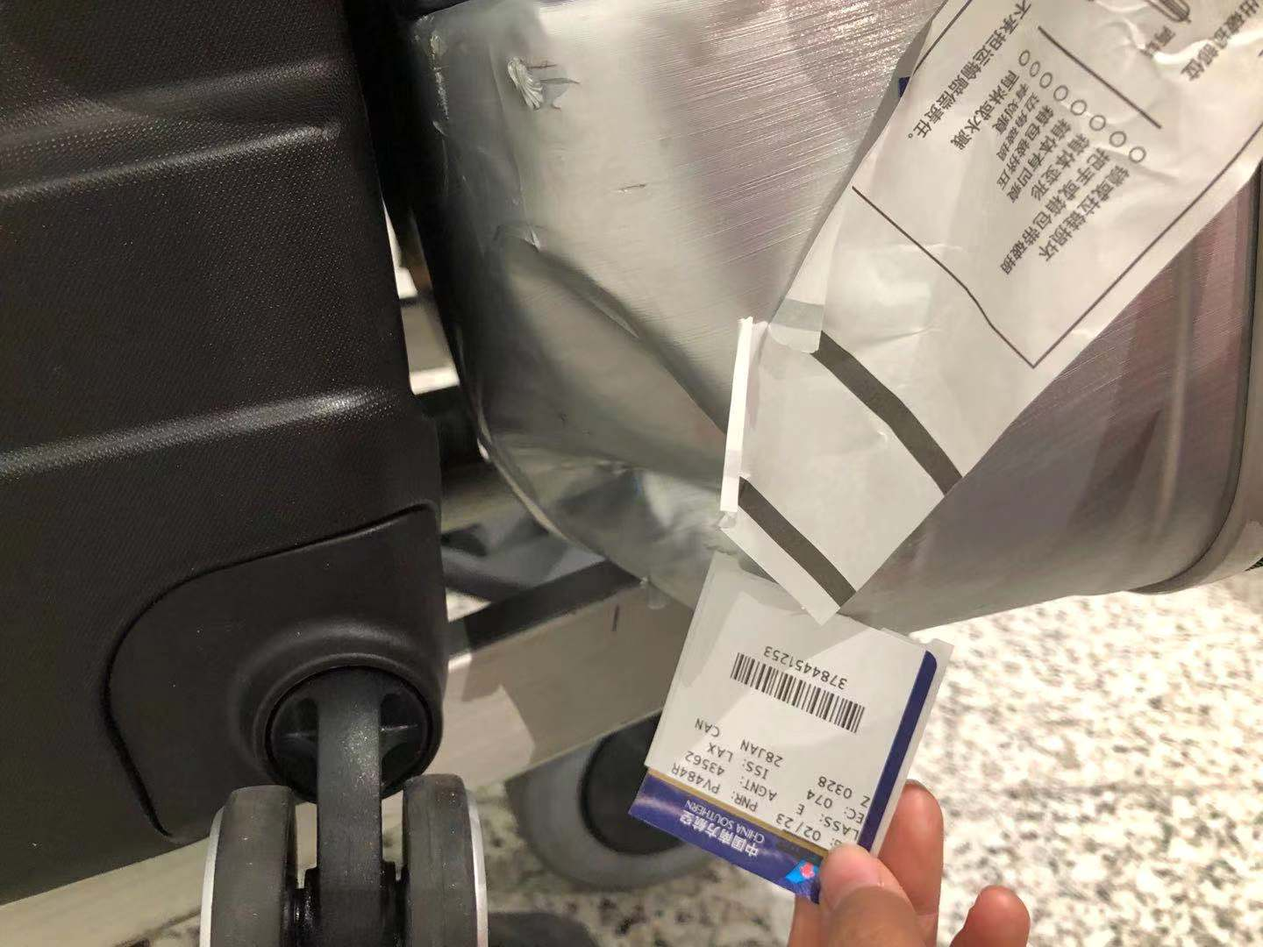hollow: (485, 218, 725, 470), (486, 402, 723, 609)
